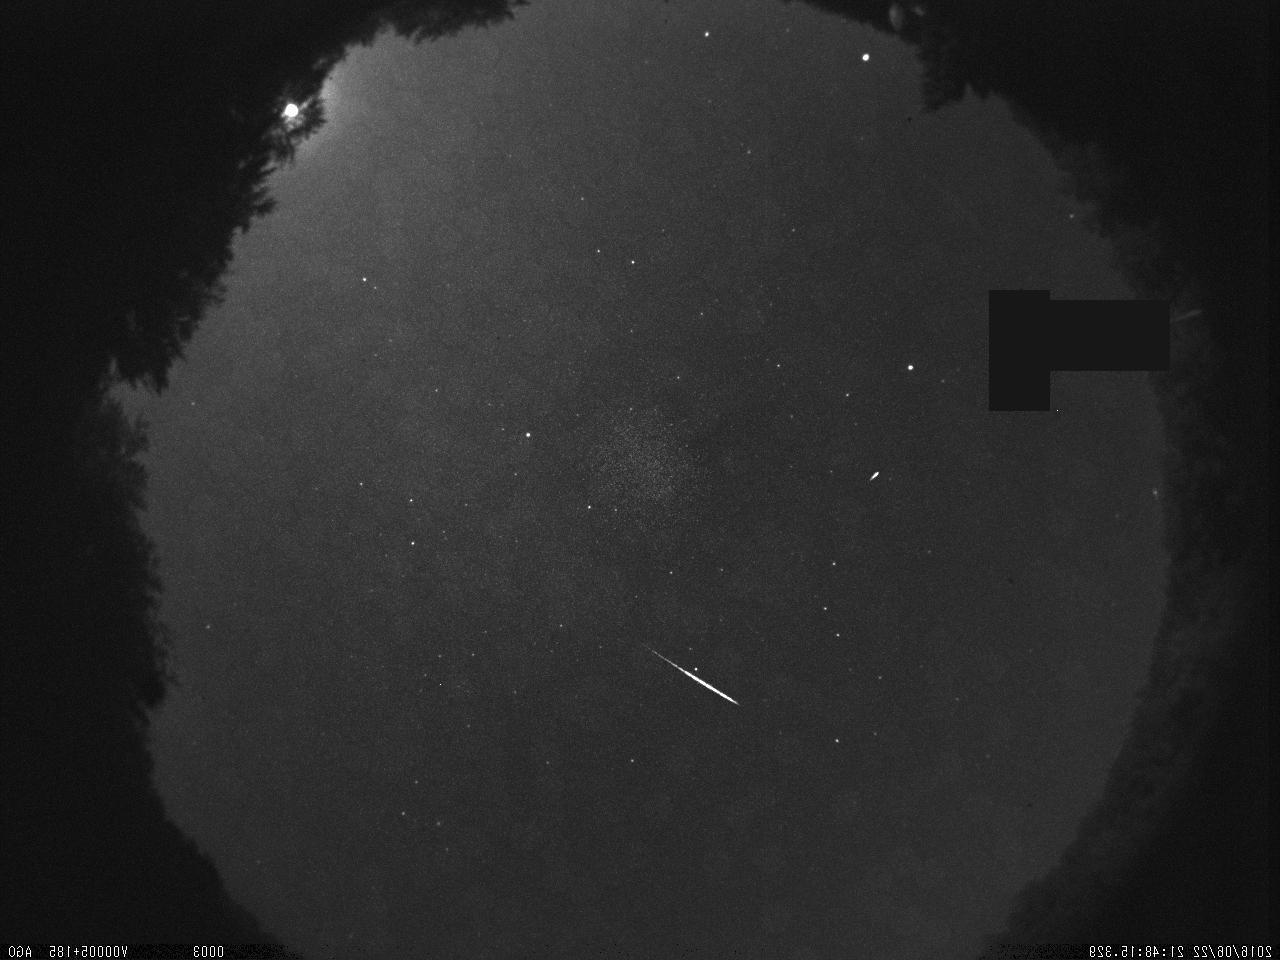meteor: (631, 629, 750, 724)
